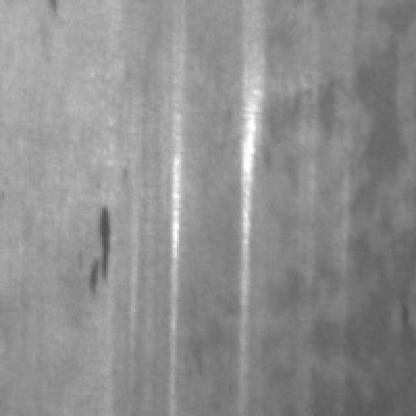inclusion: (86, 200, 115, 293)
scratches: (231, 16, 266, 402), (162, 100, 192, 414)
